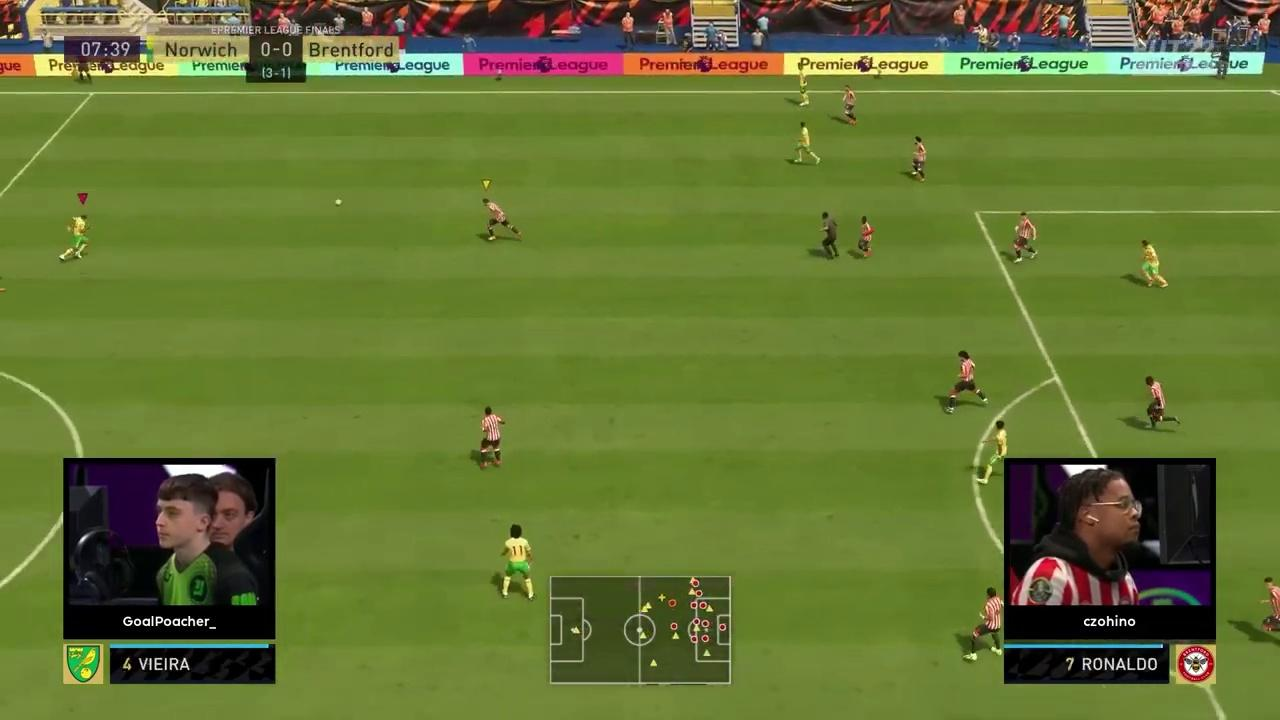scoreboard: (154, 31, 407, 64)
timestamp: (63, 36, 141, 66)
